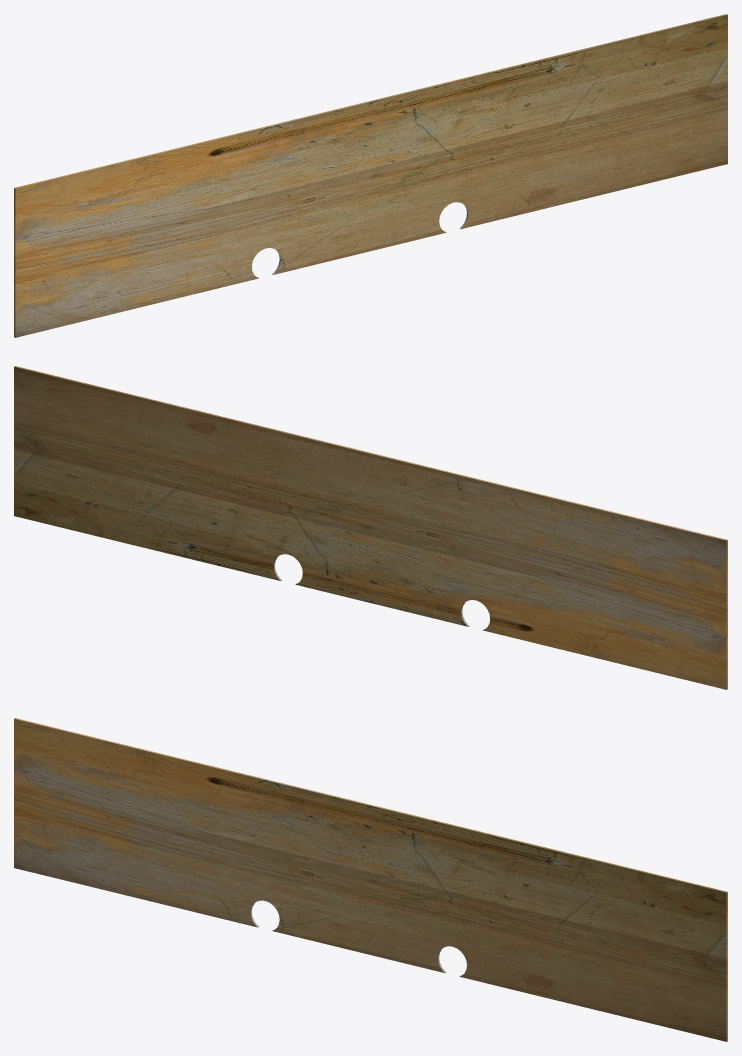
The model's file is InfiniteHallwayWall.fbx.
The picture shows the model from 3 angles, top to bottom: view 1: azimuth 30°, elevation 25°; view 2: azimuth 150°, elevation 25°; view 3: azimuth 330°, elevation 25°; orthographic projection.
Parts seen in each view (by area): view 1: polySurface45; view 2: polySurface45; view 3: polySurface45.
Boxes of the visible parts, x1,y1,x2,y2 form: polySurface45: (14, 14, 727, 337); polySurface45: (14, 366, 727, 689); polySurface45: (14, 718, 727, 1041).
Size of the model in its own units: 10000 by 2000 by 28.87.
Materials: 2 (1 with a texture image).
